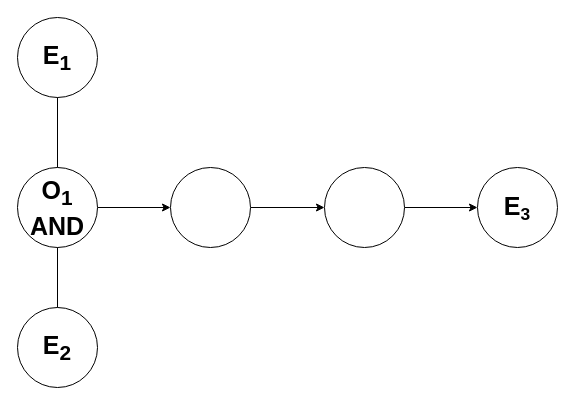
Image size: 575x405. Some labels were removed from this diagram. The centre of each missing label's shape, as x and y in pixels:
"O 2 OR" belongs at point (210, 207).
"O 3 NOT" belongs at point (364, 207).
